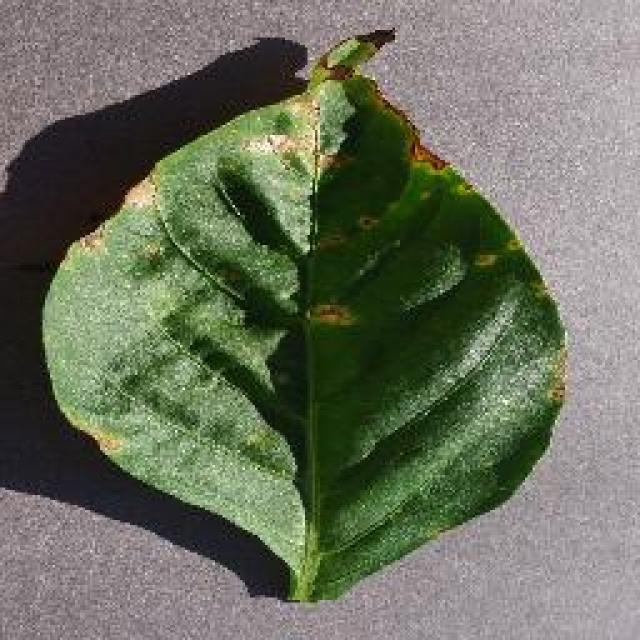Chilli_Bacterial_Spot: (35, 25, 570, 605), (305, 22, 400, 88), (305, 298, 357, 330), (72, 225, 108, 255), (135, 238, 167, 270), (90, 430, 125, 458), (468, 247, 500, 275), (350, 210, 382, 235), (545, 377, 567, 405)
